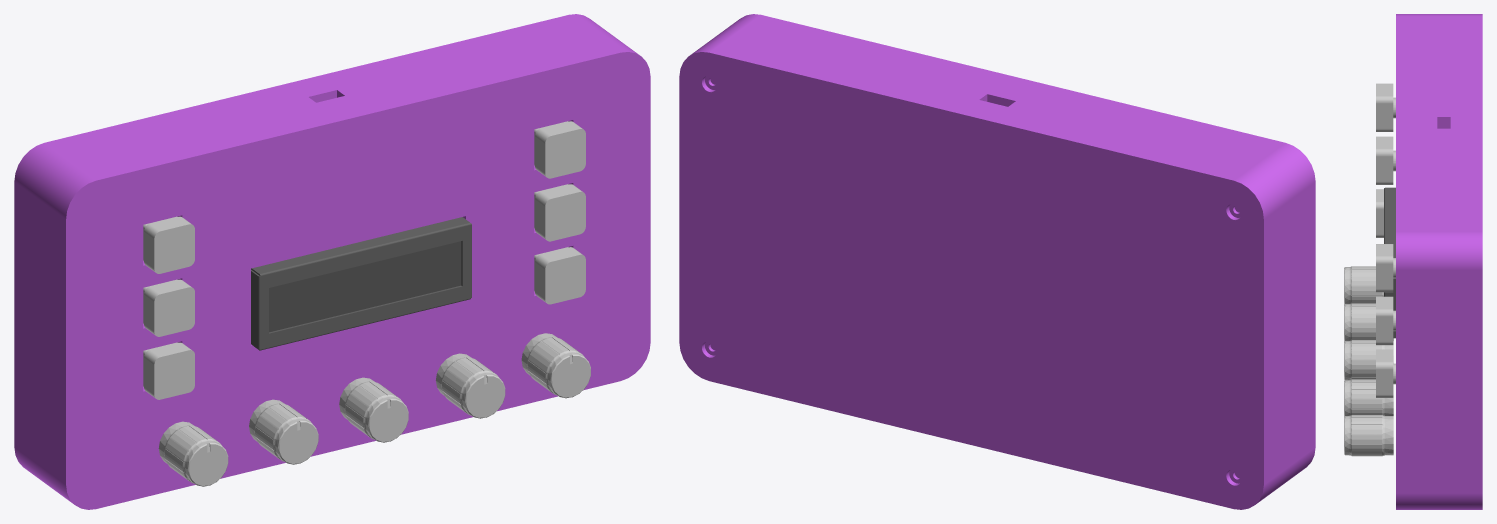
File: denadamakina.glb
The picture shows the model from 3 angles, left to right: view 1: azimuth 30°, elevation 25°; view 2: azimuth 150°, elevation 25°; view 3: azimuth 270°, elevation 25°; orthographic projection. The views are drawn at different scales.
Visible parts, largest first — view 1: Tapa, base, LCD_ASM, Knob_2 (2), Knob_2 (1), Knob_2 (2) (1), Knob_2 (1) (1), Knob_2, SwitchKeycap v6 (1), SwitchKeycap v6, SwitchKeycap v6 (1) (1), SwitchKeycap v6 (1) (1) (1) (+2 smaller); view 2: base, Tapa; view 3: base, Tapa, Knob_2 (1) (1), Knob_2 (1), Knob_2, Knob_2 (2) (1), Knob_2 (2), SwitchKeycap v6 (1), LCD_ASM, SwitchKeycap v6, SwitchKeycap v6 (1) (1), SwitchKeycap v6 (1) (2) (+2 smaller).
Boxes of the visible parts, x1,y1,x2,y2 form: Tapa: (62,49,650,509); base: (14,14,637,501); LCD_ASM: (251,217,471,350); Knob_2 (2): (249,399,318,464); Knob_2 (1): (435,353,505,418); Knob_2 (2) (1): (158,421,228,486); Knob_2 (1) (1): (521,333,590,398); Knob_2: (339,377,408,442); SwitchKeycap v6 (1): (535,184,585,241); SwitchKeycap v6: (535,121,585,178); SwitchKeycap v6 (1) (1): (535,247,585,304); SwitchKeycap v6 (1) (1) (1): (144,342,194,399); base: (679,16,1312,509); Tapa: (738,14,1315,468); base: (1401,14,1482,509); Tapa: (1396,14,1401,509); Knob_2 (1) (1): (1344,415,1393,456); Knob_2 (1): (1344,379,1393,415); Knob_2: (1344,340,1393,380); Knob_2 (2) (1): (1344,266,1383,304); Knob_2 (2): (1344,303,1393,341); SwitchKeycap v6 (1): (1376,296,1393,345); LCD_ASM: (1384,187,1395,338); SwitchKeycap v6: (1376,244,1393,292); SwitchKeycap v6 (1) (1): (1376,349,1393,397); SwitchKeycap v6 (1) (2): (1376,136,1393,184).
Size of the model in its own units: 19.44 by 10.44 by 4.75.
